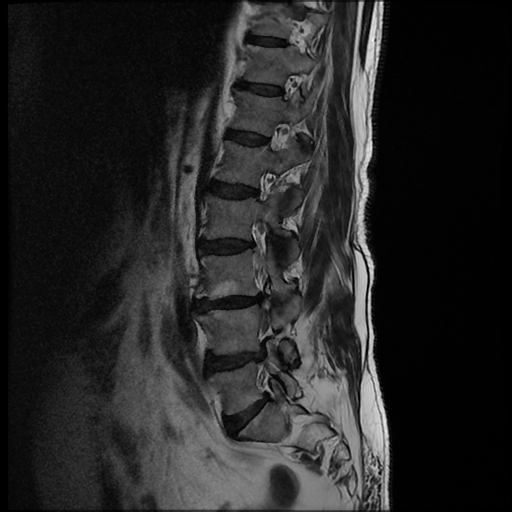RFS0: (247, 159, 280, 210)
